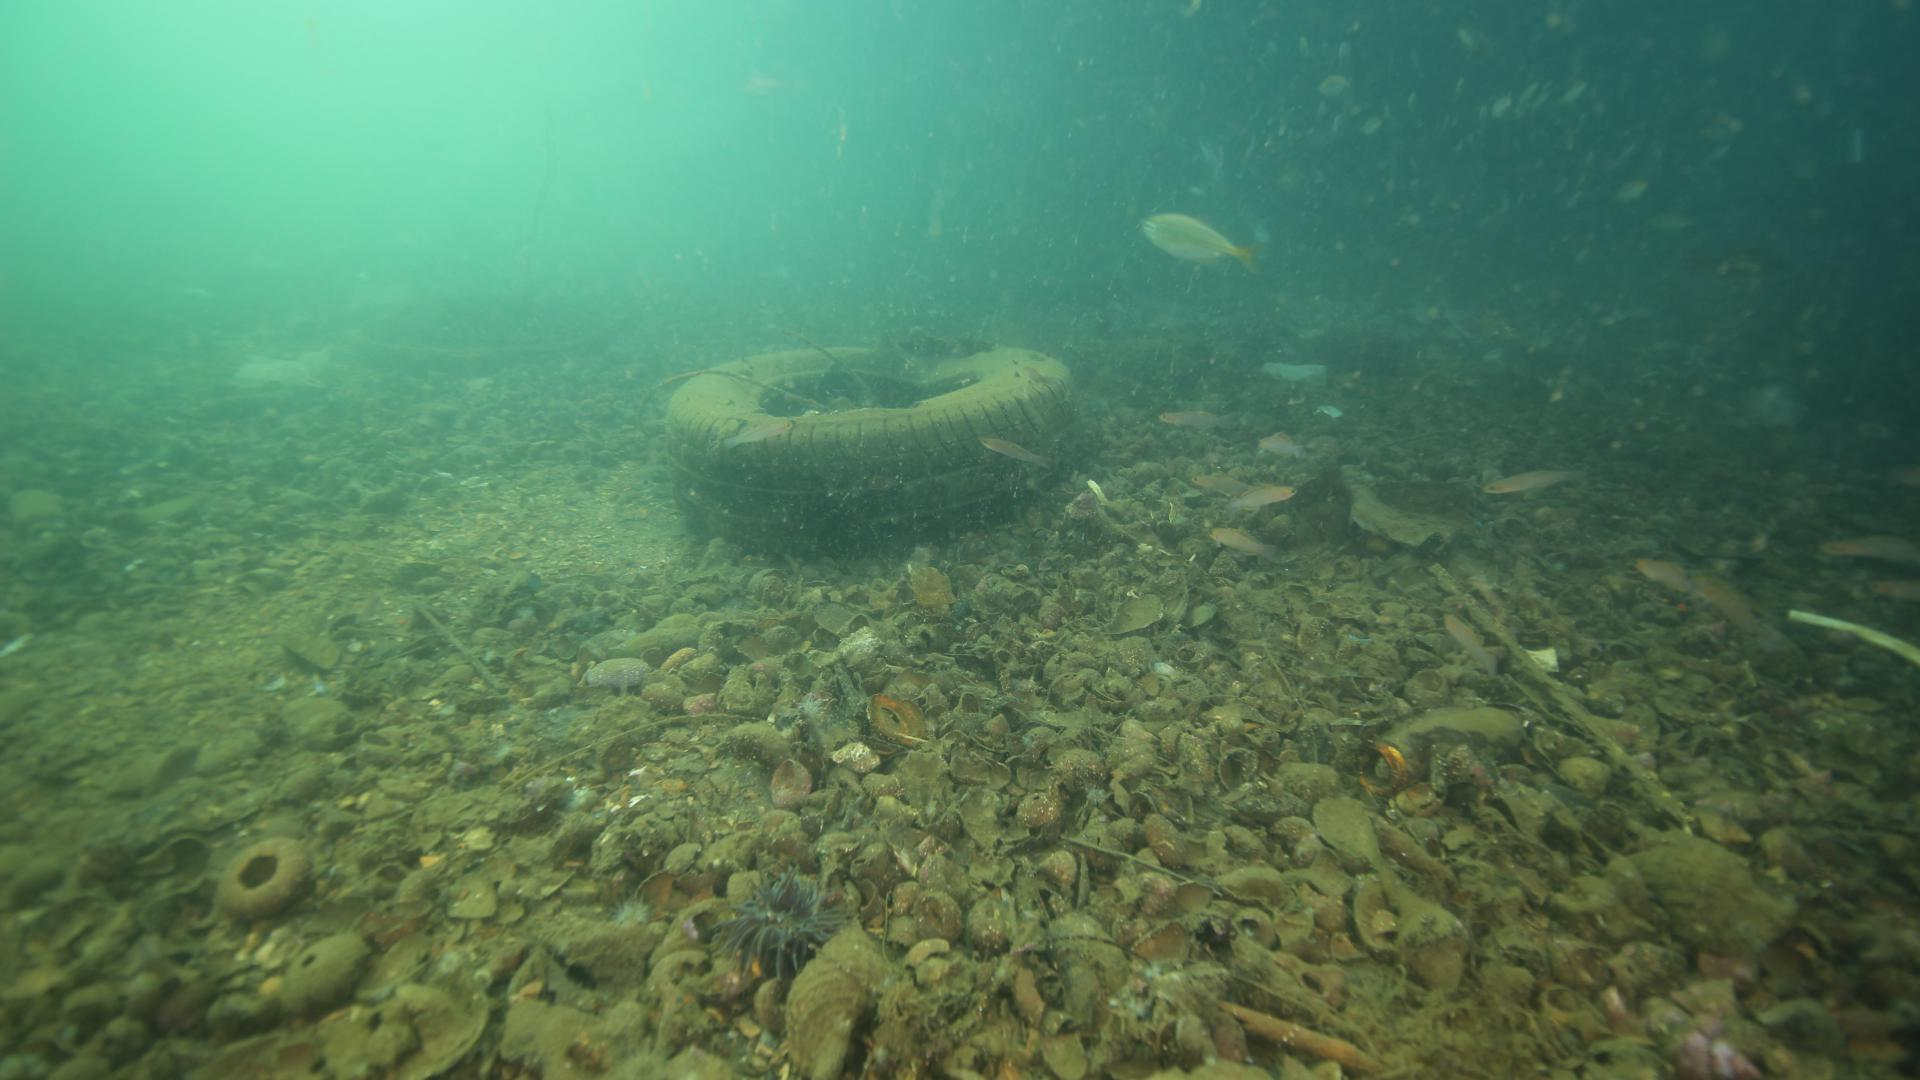tire: (661, 343, 1076, 556)
